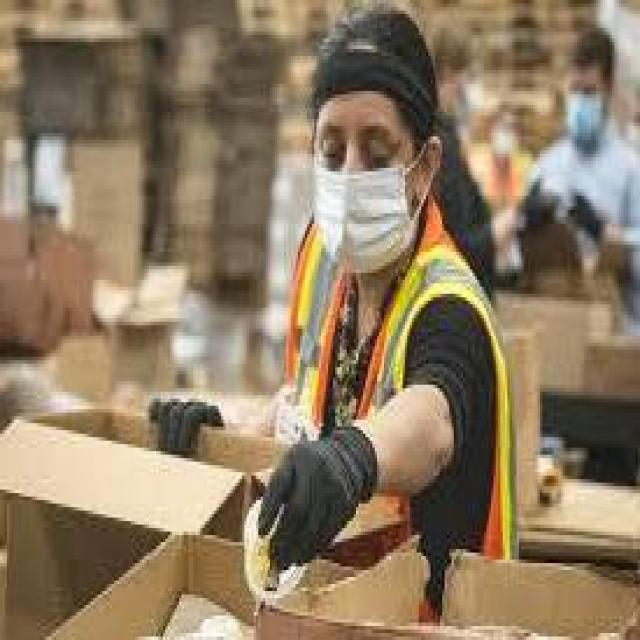Reflective-Jacket: (275, 191, 529, 574)
